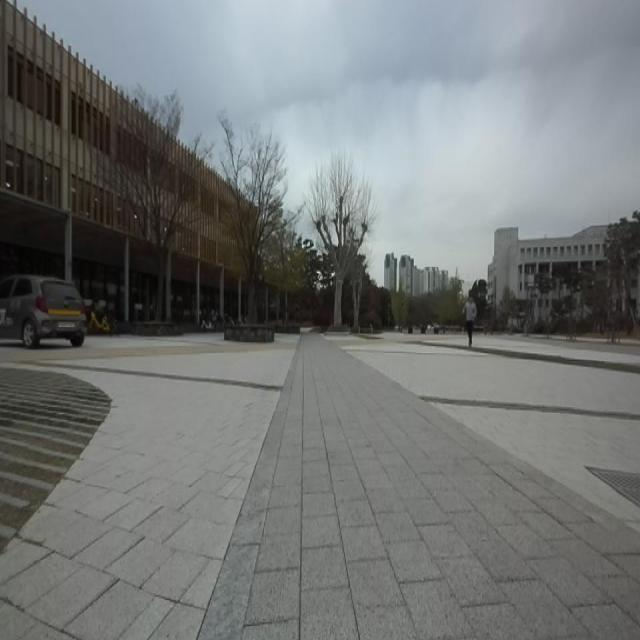sidewalk: (200, 337, 640, 639), (57, 342, 298, 361)
